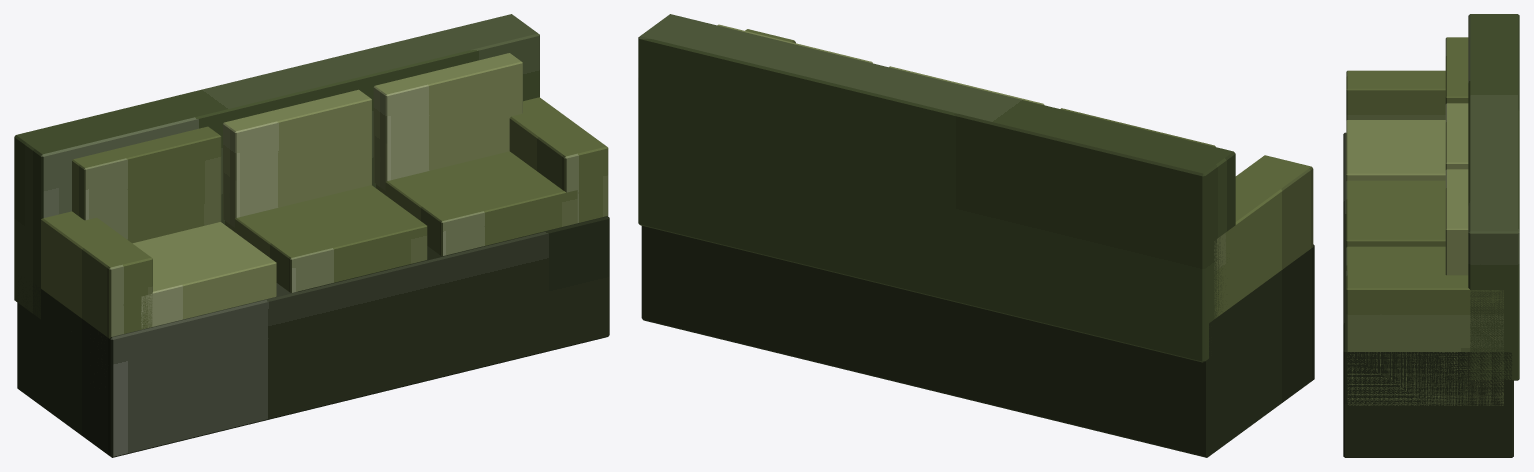
The model's file is lounge_couch_olive_wide.glb.
3 views of the same model, side by side, from view 1: azimuth 30°, elevation 25°; view 2: azimuth 150°, elevation 25°; view 3: azimuth 270°, elevation 25° (orthographic). The views are drawn at different scales.
Parts seen in each view (by area): view 1: CouchBase, CouchBack, BackCushion_2, BackCushion_3, SeatCushion_2, BackCushion_1, SeatCushion_3, CouchArm_L, SeatCushion_1, CouchArm_R; view 2: CouchBack, CouchBase, CouchArm_L; view 3: CouchBack, CouchBase, CouchArm_R, SeatCushion_2, SeatCushion_1, CouchArm_L, BackCushion_3, SeatCushion_3, BackCushion_1, BackCushion_2.
Boxes of the visible parts, x1,y1,x2,y2 form: CouchBase: (17,216,609,457); CouchBack: (14,14,539,319); BackCushion_2: (223,89,371,227); BackCushion_3: (373,53,522,190); SeatCushion_2: (225,185,427,292); BackCushion_1: (72,126,221,243); SeatCushion_3: (376,151,577,255); CouchArm_L: (41,211,152,338); SeatCushion_1: (132,222,276,328); CouchArm_R: (509,97,608,222); CouchBack: (638,14,1235,362); CouchBase: (641,226,1314,457); CouchArm_L: (1214,155,1313,318); CouchBack: (1468,14,1519,380); CouchBase: (1343,132,1513,457); CouchArm_R: (1346,270,1503,405); SeatCushion_2: (1346,180,1445,247); SeatCushion_1: (1346,120,1445,180); CouchArm_L: (1346,70,1445,120); BackCushion_3: (1445,169,1468,275); SeatCushion_3: (1346,246,1445,270); BackCushion_1: (1445,37,1468,103); BackCushion_2: (1445,103,1468,169).
Size of the model in its own units: 1.82 by 0.91 by 0.62.
Materials: 1 (1 with a texture image).
